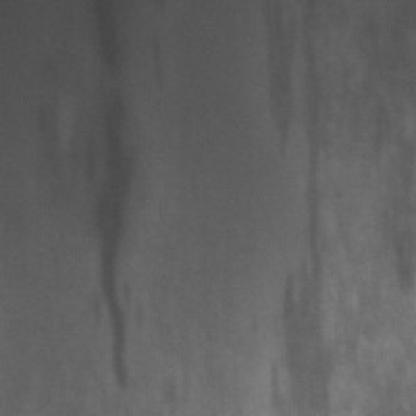inclusion: (264, 0, 337, 410), (70, 0, 143, 387), (360, 70, 416, 300)
